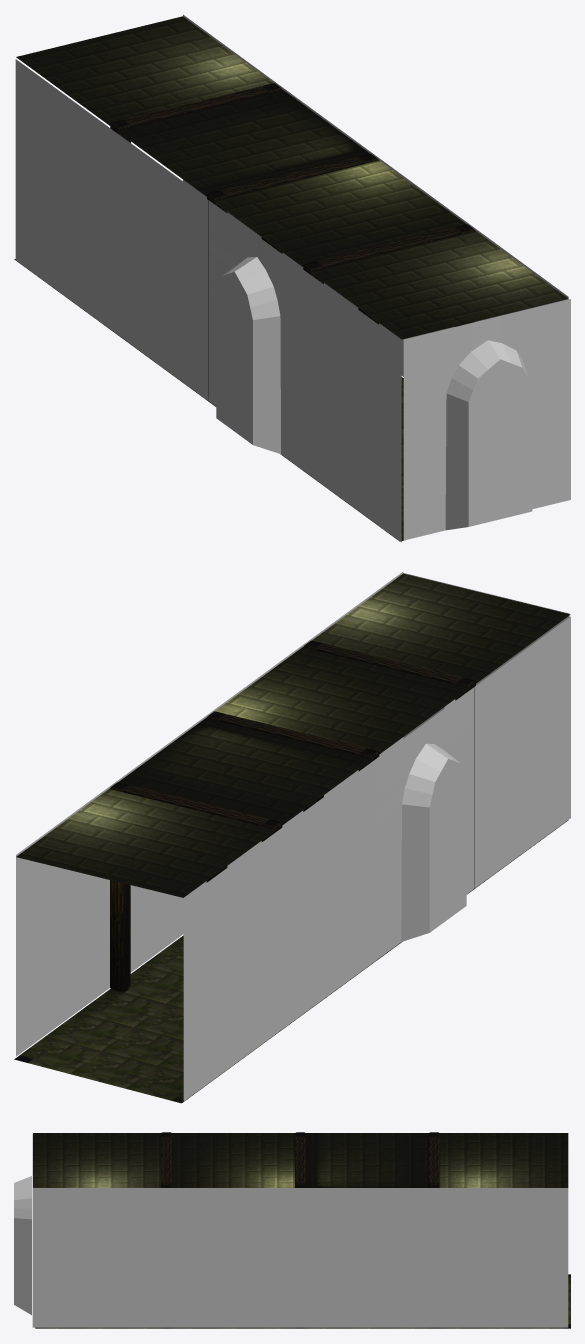
File: corridor01.fbx
3 views of the same model, one above another, from view 1: azimuth 30°, elevation 25°; view 2: azimuth 150°, elevation 25°; view 3: azimuth 270°, elevation 25° (orthographic). The views are drawn at different scales.
Parts seen in each view (by area): view 1: CastleWall, CastleCeiling, CastleBeam, CastleFloor; view 2: CastleWall, CastleCeiling, CastleFloor, CastleBeam; view 3: CastleWall, CastleCeiling, CastleBeam, CastleFloor.
Boxes of the visible parts, x1=… form: CastleWall: x1=15, y1=14, x2=570, y2=542; CastleCeiling: x1=16, y1=16, x2=568, y2=339; CastleBeam: x1=110, y1=83, x2=475, y2=394; CastleFloor: x1=14, y1=259, x2=403, y2=541; CastleWall: x1=16, y1=572, x2=570, y2=1100; CastleCeiling: x1=16, y1=573, x2=570, y2=897; CastleFloor: x1=14, y1=820, x2=568, y2=1103; CastleBeam: x1=110, y1=640, x2=475, y2=991; CastleWall: x1=14, y1=1134, x2=568, y2=1327; CastleCeiling: x1=33, y1=1133, x2=568, y2=1187; CastleBeam: x1=161, y1=1132, x2=439, y2=1187; CastleFloor: x1=35, y1=1274, x2=570, y2=1328.
Size of the model in its own units: 229 by 235 by 832.
